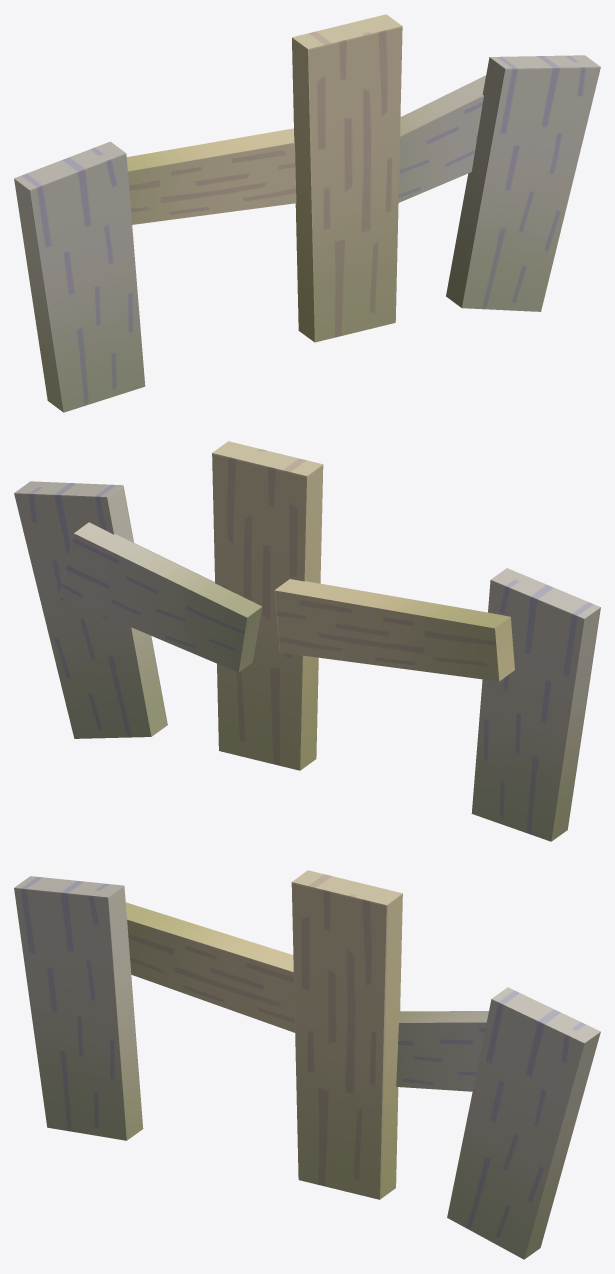
Rendered from BG_017_fence.FBX.
3 views of the same model, one above another, from view 1: azimuth 30°, elevation 25°; view 2: azimuth 150°, elevation 25°; view 3: azimuth 330°, elevation 25° (orthographic).
Parts seen in each view (by area): view 1: BG_017_fence; view 2: BG_017_fence; view 3: BG_017_fence.
Boxes of the visible parts, <box> form: BG_017_fence: <box>14,14,600,412</box>; BG_017_fence: <box>14,441,600,841</box>; BG_017_fence: <box>14,870,600,1259</box>.
Size of the model in its own units: 349 by 187 by 34.32.
